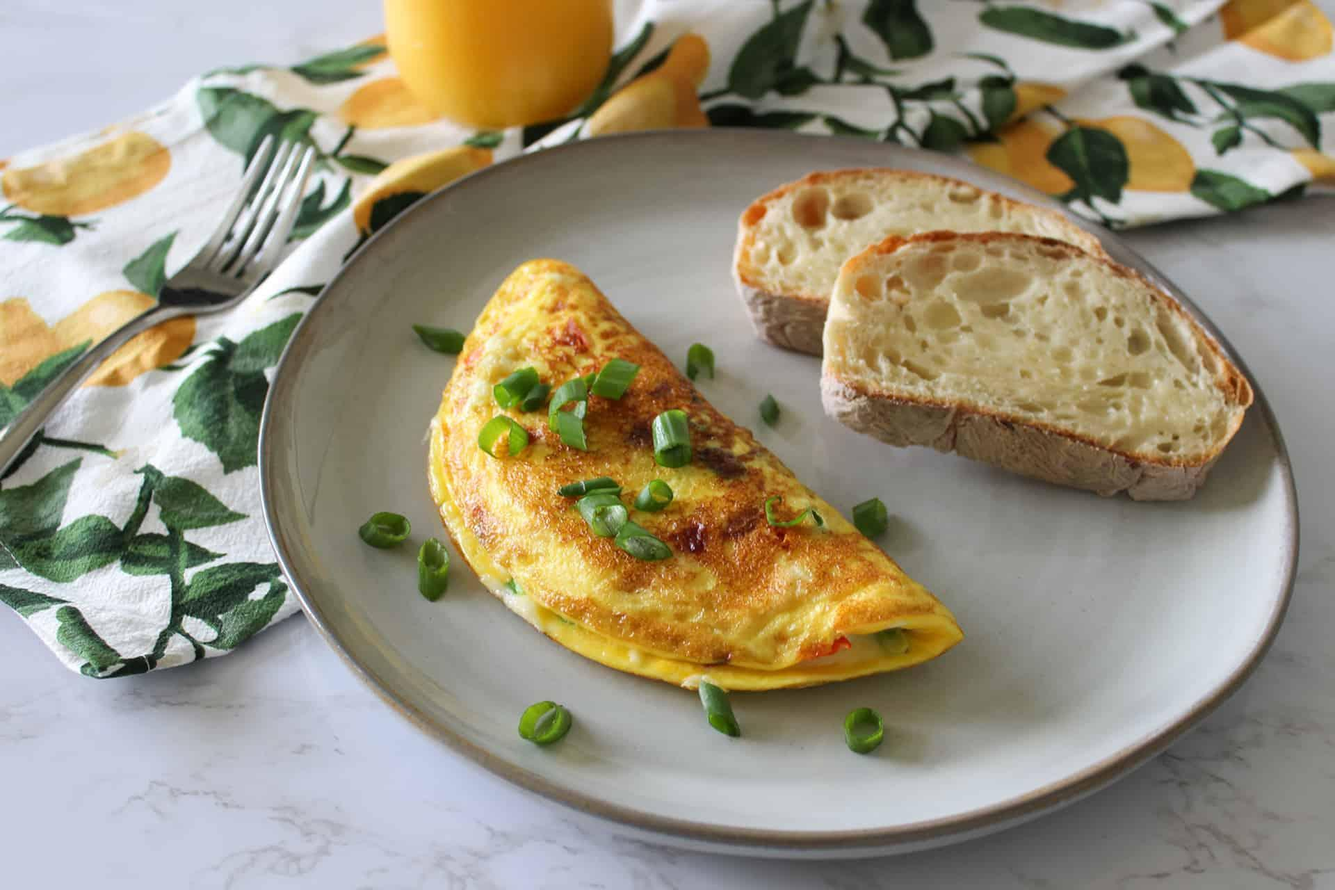omelette: (467, 279, 879, 706)
